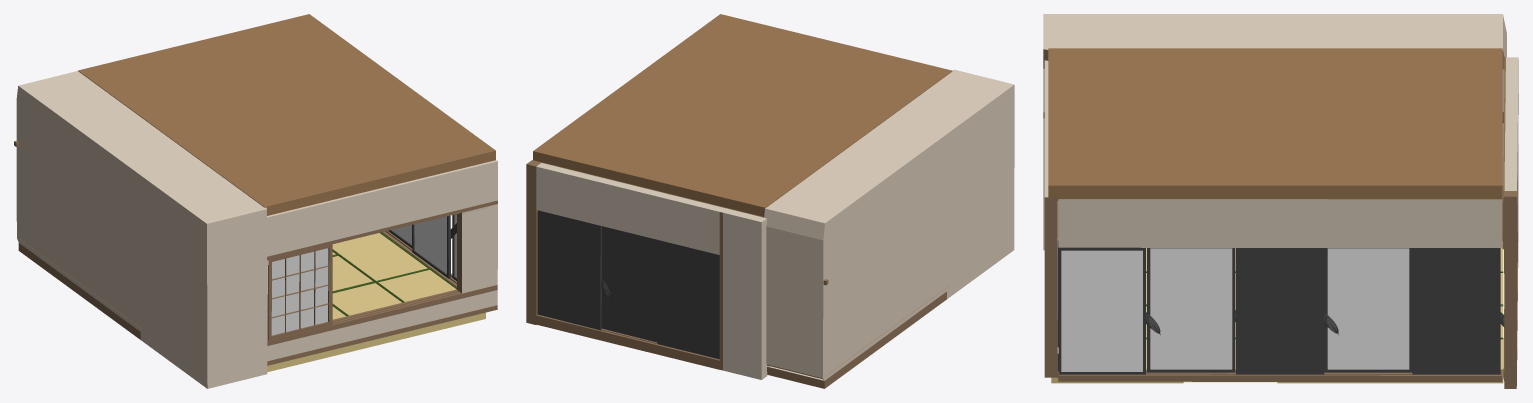
Rendered from JapanRoom.glb.
3 views of the same model, side by side, from view 1: azimuth 30°, elevation 25°; view 2: azimuth 150°, elevation 25°; view 3: azimuth 270°, elevation 25° (orthographic). The views are drawn at different scales.
Parts seen in each view (by area): view 1: Wall right, Roof above, Wall front, Below, White background window 2, Woindow 2, S2; view 2: Wall right, Roof above, Wall behind, S6, S8, S7; view 3: Roof above, Wall left, Wall right, S1, S5, S3, S2, S4, Wall behind, Wall front, Below.
Part boxes in pixels (box(x1,y1,x2,y2)): Wall right: box(16, 71, 268, 388); Roof above: box(78, 14, 495, 215); Wall front: box(267, 160, 497, 365); Below: box(267, 232, 485, 372); White background window 2: box(271, 248, 326, 335); Woindow 2: box(267, 244, 332, 340); S2: box(412, 215, 450, 279); Wall right: box(763, 69, 1014, 388); Roof above: box(533, 14, 952, 216); Wall behind: box(526, 160, 767, 379); S6: box(537, 210, 601, 330); S8: box(657, 240, 719, 359); S7: box(601, 226, 657, 342); Roof above: box(1048, 48, 1502, 200); Wall left: box(1058, 199, 1502, 381); Wall right: box(1043, 14, 1506, 250); S1: box(1057, 240, 1145, 374); S5: box(1412, 248, 1500, 374); S3: box(1236, 248, 1324, 374); S2: box(1147, 248, 1235, 372); S4: box(1324, 248, 1412, 372); Wall behind: box(1502, 57, 1518, 388); Wall front: box(1044, 60, 1059, 377); Below: box(1051, 242, 1503, 383).
Size of the model in its own units: 11.47 by 6.21 by 13.17.
